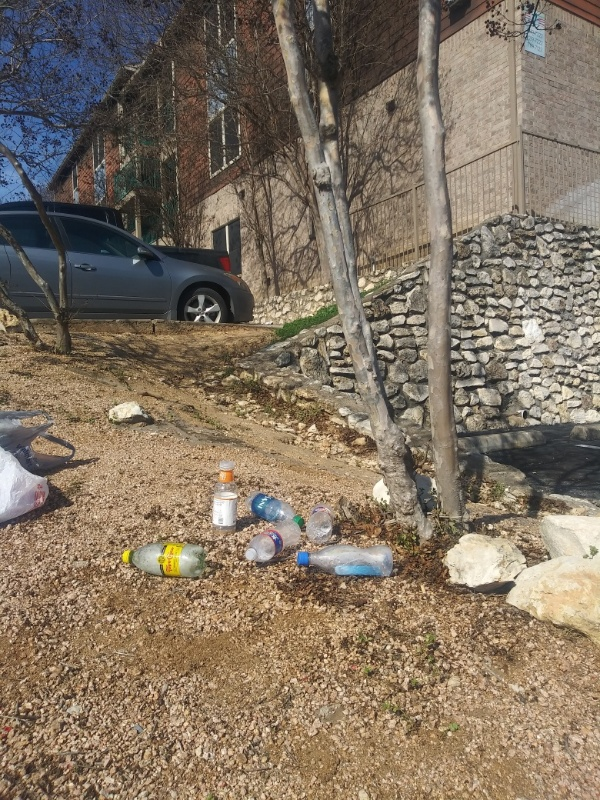bottle: (294, 543, 397, 581), (116, 539, 207, 580), (241, 517, 304, 568), (205, 460, 241, 534), (242, 489, 306, 528), (302, 499, 337, 546)
